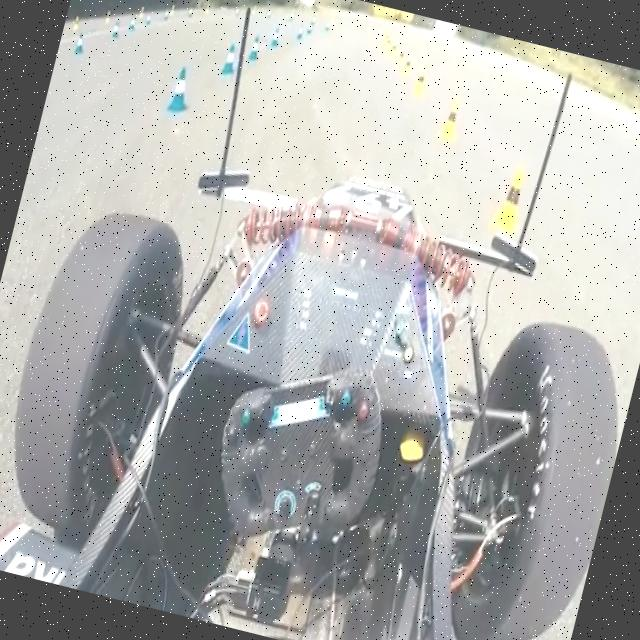blue_cone: (153, 53, 209, 117), (217, 36, 248, 76)
yellow_cone: (480, 156, 556, 264), (431, 94, 467, 144), (402, 61, 436, 98)
